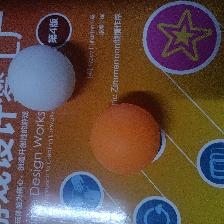WhiteBall: (8, 45, 75, 111)
YellowBall: (90, 103, 160, 173)
